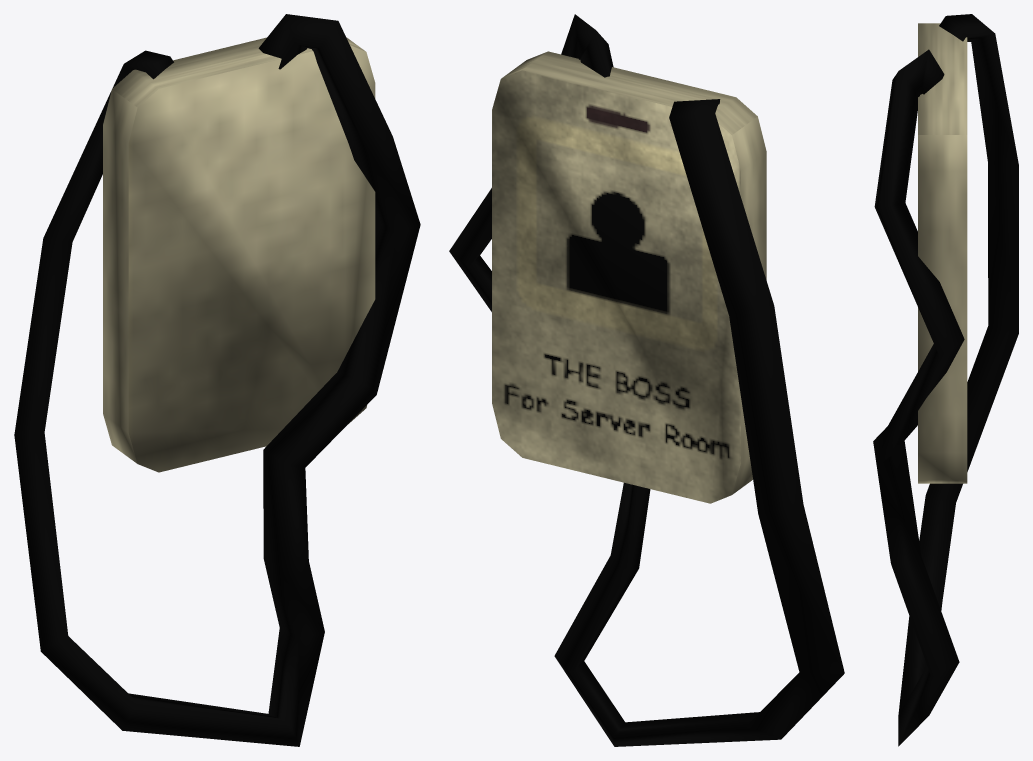
The model's file is Keycard.fbx.
3 renders of one model, left to right at view 1: azimuth 30°, elevation 25°; view 2: azimuth 150°, elevation 25°; view 3: azimuth 270°, elevation 25°, orthographic. The views are drawn at different scales.
Parts seen in each view (by area): view 1: Cube; view 2: Cube; view 3: Cube.
Part boxes in pixels (box(x1,y1,x2,y2)): Cube: box(14, 14, 420, 746); Cube: box(449, 14, 844, 746); Cube: box(873, 14, 1018, 746).
Size of the model in its own units: 83.24 by 149 by 28.09.
